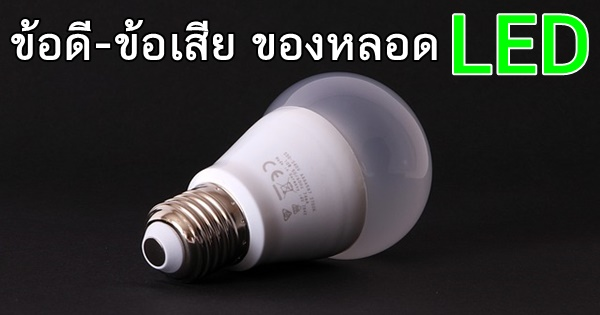Light_bulb: (136, 68, 435, 278)
